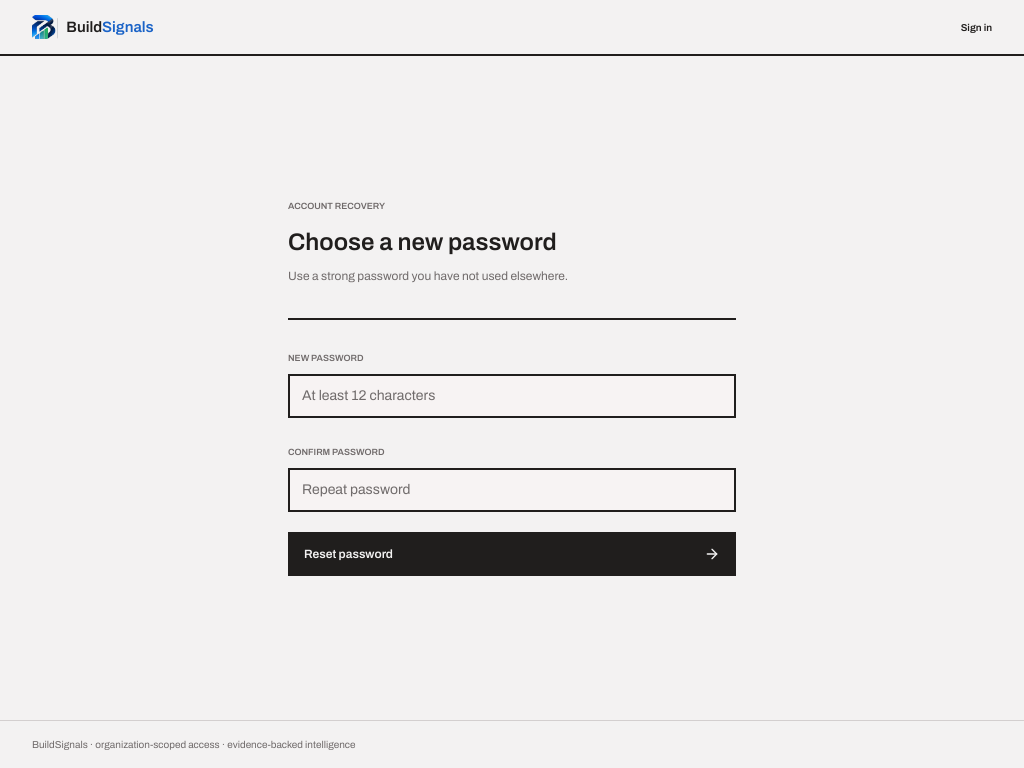
Test: <ResetPassword> › does not submit when the two passwords don't match
Type "CorrectHorseBattery42" into the password field labelled "New password" at [512, 396], box left=288, top=374, right=736, bottom=418
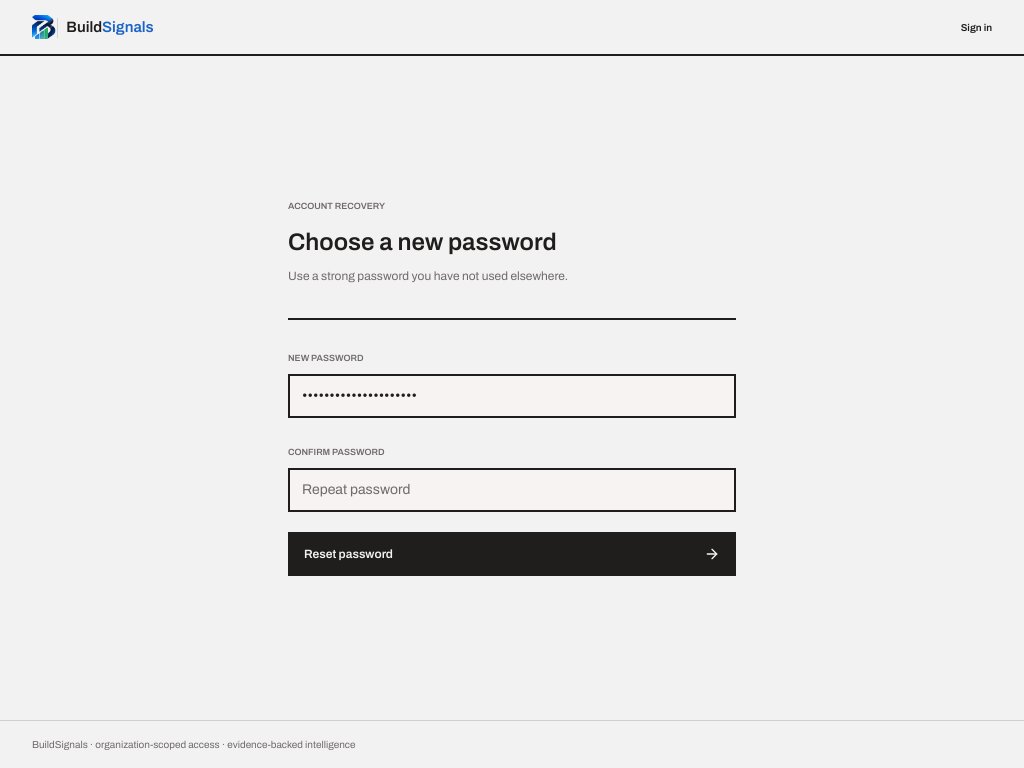
Type "Different42!" into the password field labelled "Confirm password" at [512, 490], box left=288, top=468, right=736, bottom=512
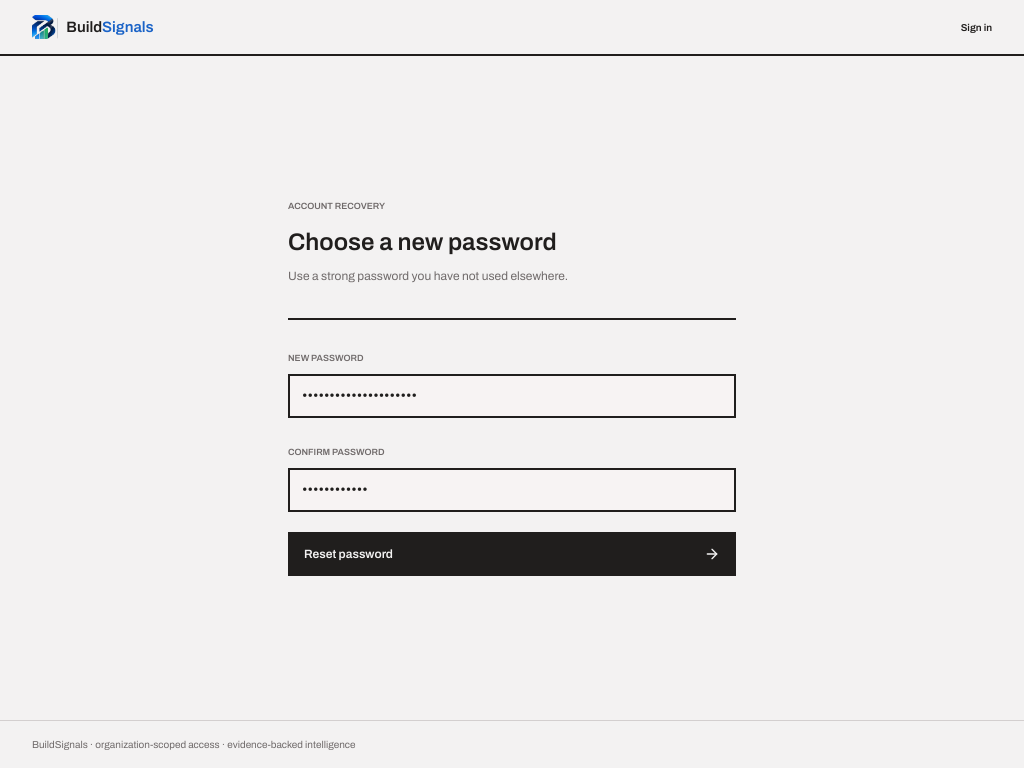
Click the button "Reset password" at [348, 554], box left=288, top=532, right=736, bottom=576
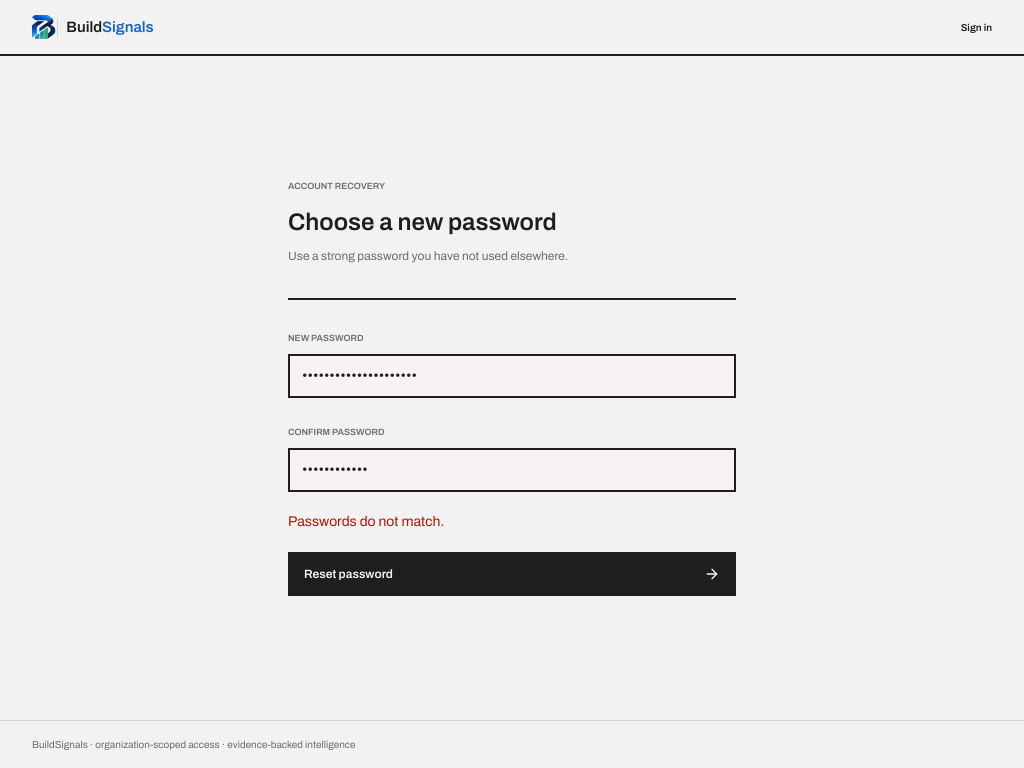
Expected: the text "Passwords do not match." is shown, left=288, top=514, right=444, bottom=529
